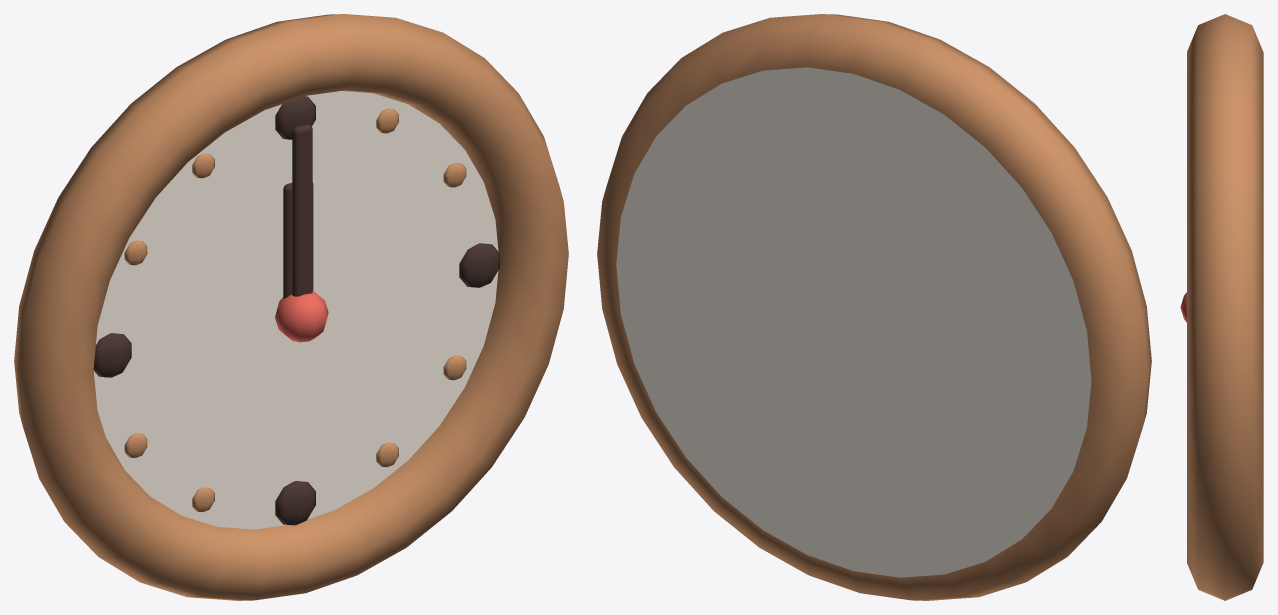
The model's file is wall_clock.glb.
The picture shows the model from 3 angles, left to right: view 1: azimuth 30°, elevation 25°; view 2: azimuth 150°, elevation 25°; view 3: azimuth 270°, elevation 25°; orthographic projection. The views are drawn at different scales.
Visible parts, largest first — view 1: WallClock, MinuteHand, HourHand; view 2: WallClock; view 3: WallClock.
Part boxes in pixels (box(x1,y1,x2,y2)): WallClock: box(14, 14, 568, 600); MinuteHand: box(292, 124, 312, 296); HourHand: box(283, 182, 313, 298); WallClock: box(597, 14, 1151, 600); WallClock: box(1180, 14, 1263, 600).
Bounding box in the file's own units: 0.46 × 0.46 × 0.065.
